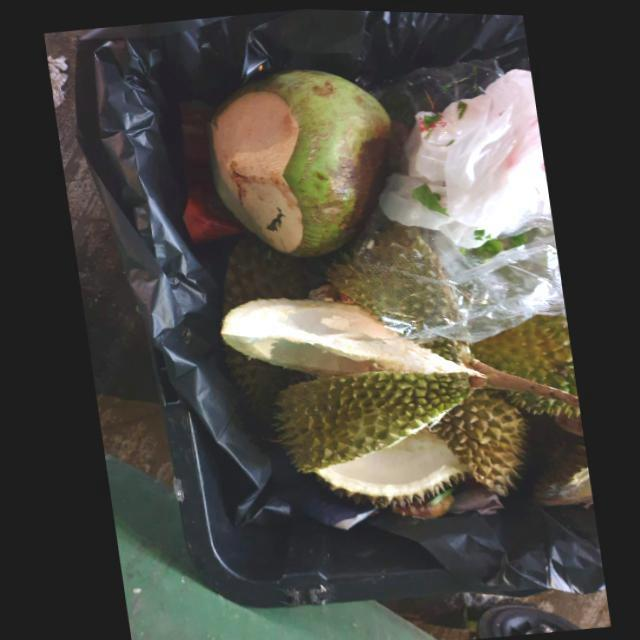plastic_bag: (377, 64, 552, 245)
